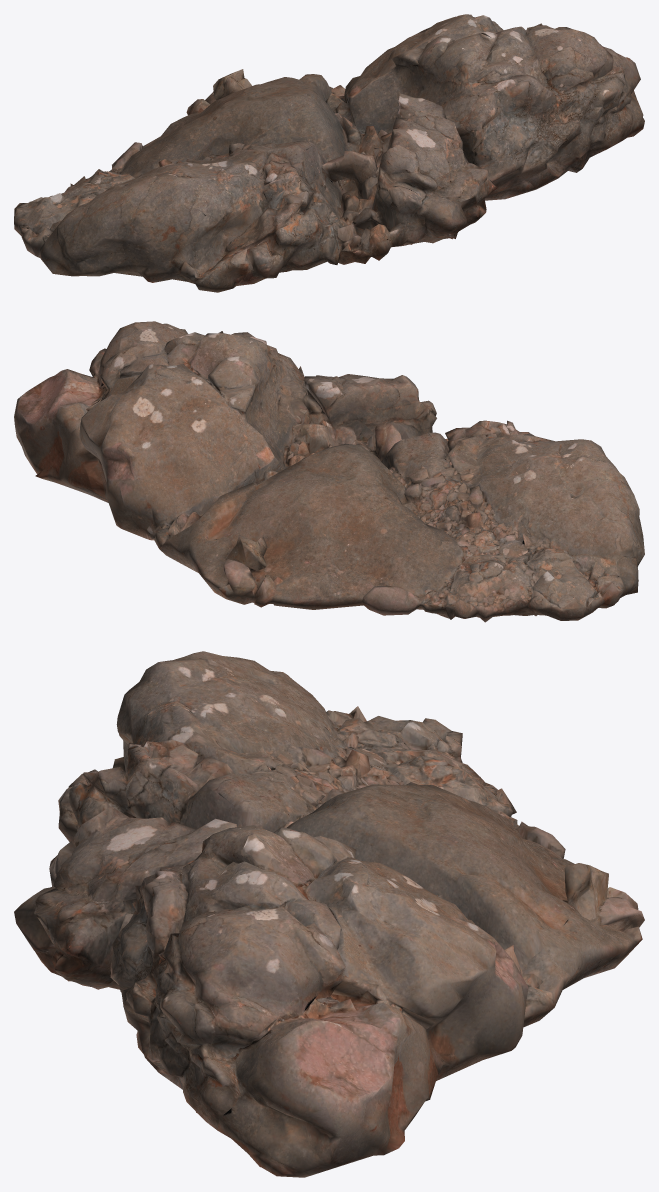
File: SM_xiicffu_tier_2.gltf
The picture shows the model from 3 angles, top to bottom: view 1: azimuth 30°, elevation 25°; view 2: azimuth 150°, elevation 25°; view 3: azimuth 270°, elevation 25°; orthographic projection. The views are drawn at different scales.
Visible parts, largest first — view 1: xiicffu_LOD2_TIER2_000; view 2: xiicffu_LOD2_TIER2_000; view 3: xiicffu_LOD2_TIER2_000.
Boxes of the visible parts, left/top/right/bottom form: xiicffu_LOD2_TIER2_000: left=14, top=14, right=644, bottom=292; xiicffu_LOD2_TIER2_000: left=14, top=321, right=644, bottom=622; xiicffu_LOD2_TIER2_000: left=14, top=651, right=644, bottom=1177.
Bounding box in the file's own units: 1.52 × 0.3705 × 0.9052.
Materials: 1 (1 with a texture image).
